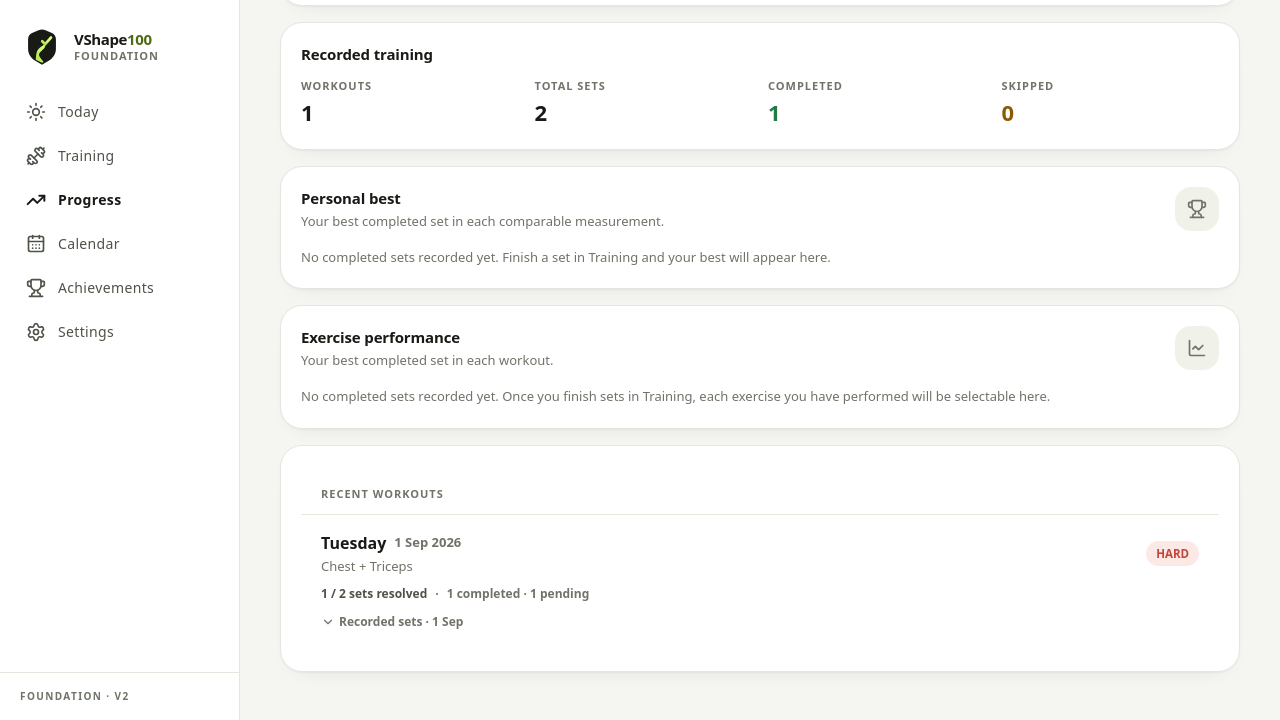
Scenario: correcting a recorded set › does not mark an uncorrected set as Corrected
(page scrolled)
Click the button "Recorded sets · 1 Sep".
click(392, 622)  # box x1=321 y1=613 x2=463 y2=631
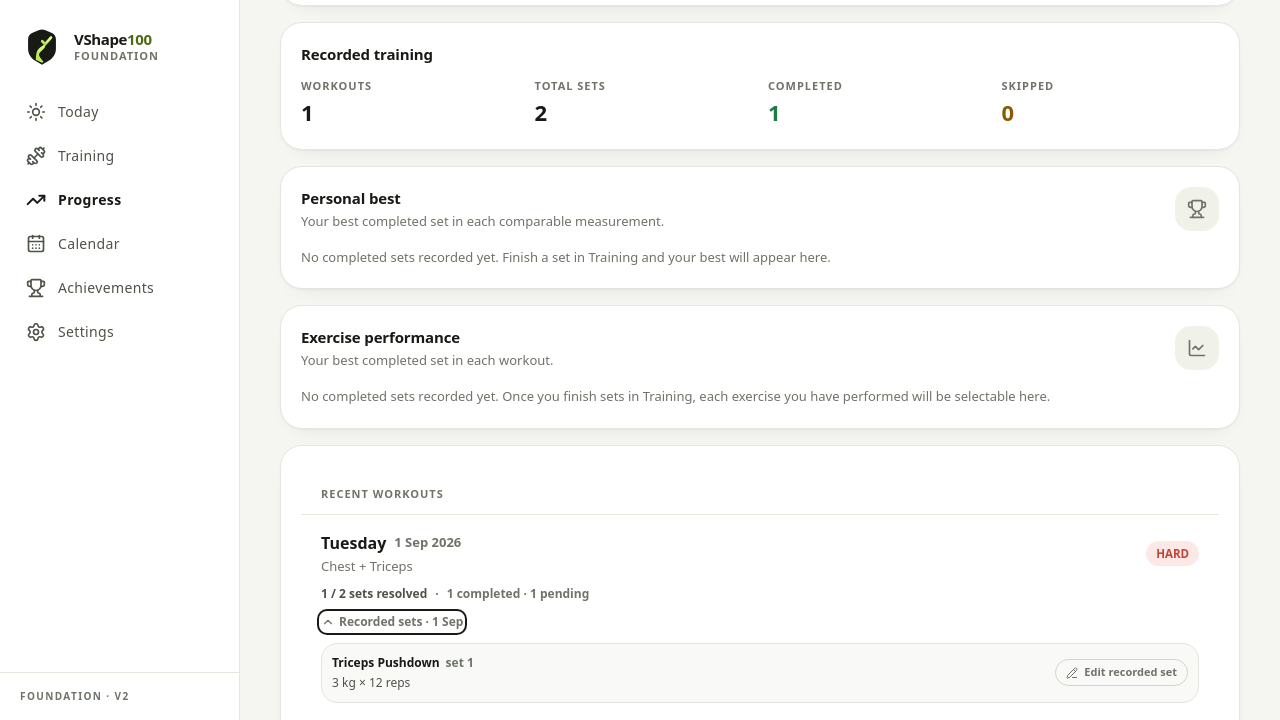
Expected: the text "3 kg × 12 reps" is shown, x1=332 y1=674 x2=410 y2=691
